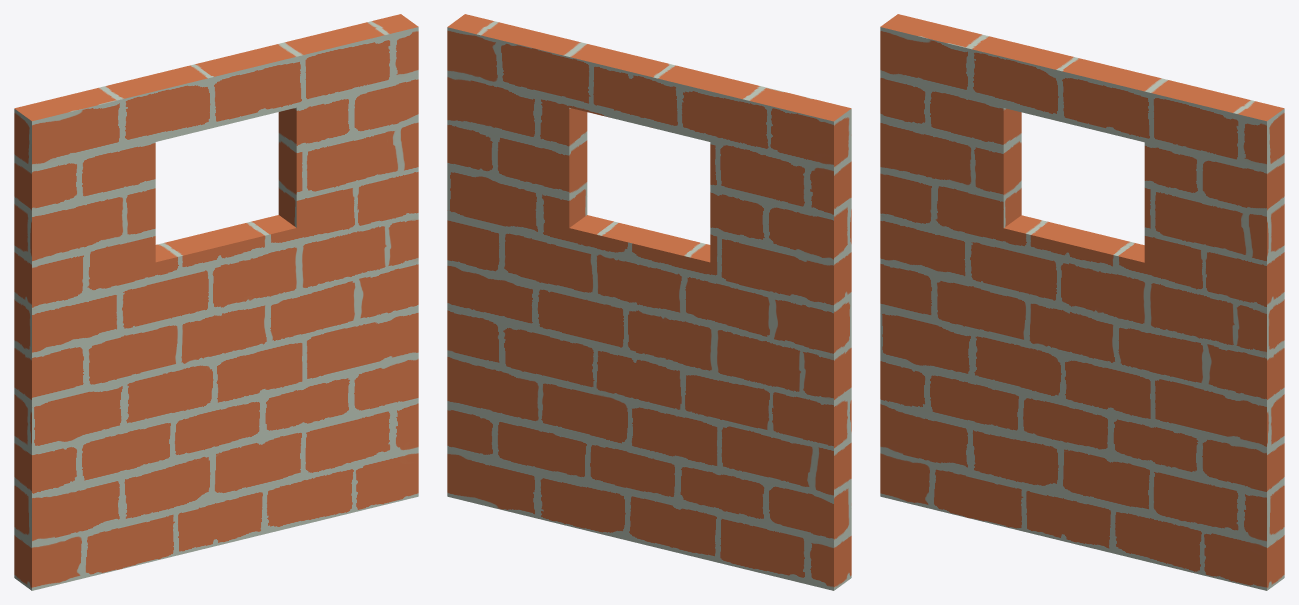
The model's file is Brick_Wall_Bathroom.fbx.
3 renders of one model, left to right at view 1: azimuth 30°, elevation 25°; view 2: azimuth 150°, elevation 25°; view 3: azimuth 330°, elevation 25°, orthographic.
Visible parts, largest first — view 1: Brick_Wall_Bathroom; view 2: Brick_Wall_Bathroom; view 3: Brick_Wall_Bathroom.
Part boxes in pixels (x1,y1,x2,y2): Brick_Wall_Bathroom: [14, 14, 418, 590]; Brick_Wall_Bathroom: [447, 14, 851, 590]; Brick_Wall_Bathroom: [880, 14, 1284, 590].
Bounding box in the file's own units: 250 × 290 × 20.
